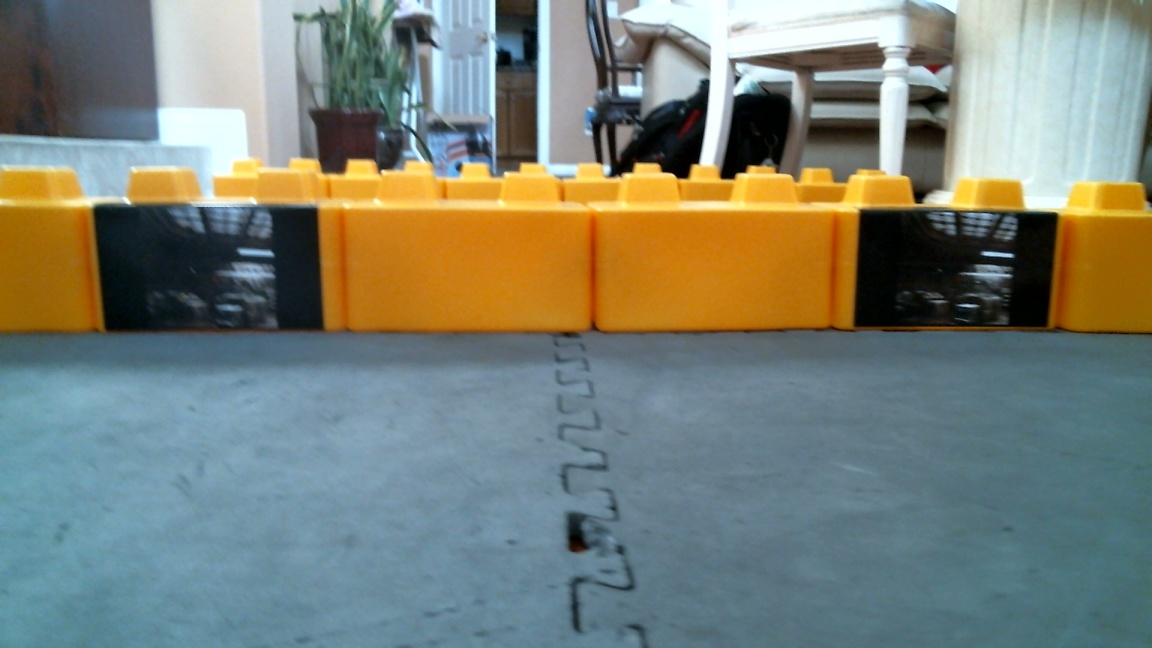skystone: (89, 166, 350, 333), (836, 175, 1063, 333)
stone: (349, 170, 595, 336), (595, 173, 838, 331), (1, 168, 100, 334), (1062, 179, 1152, 333)
